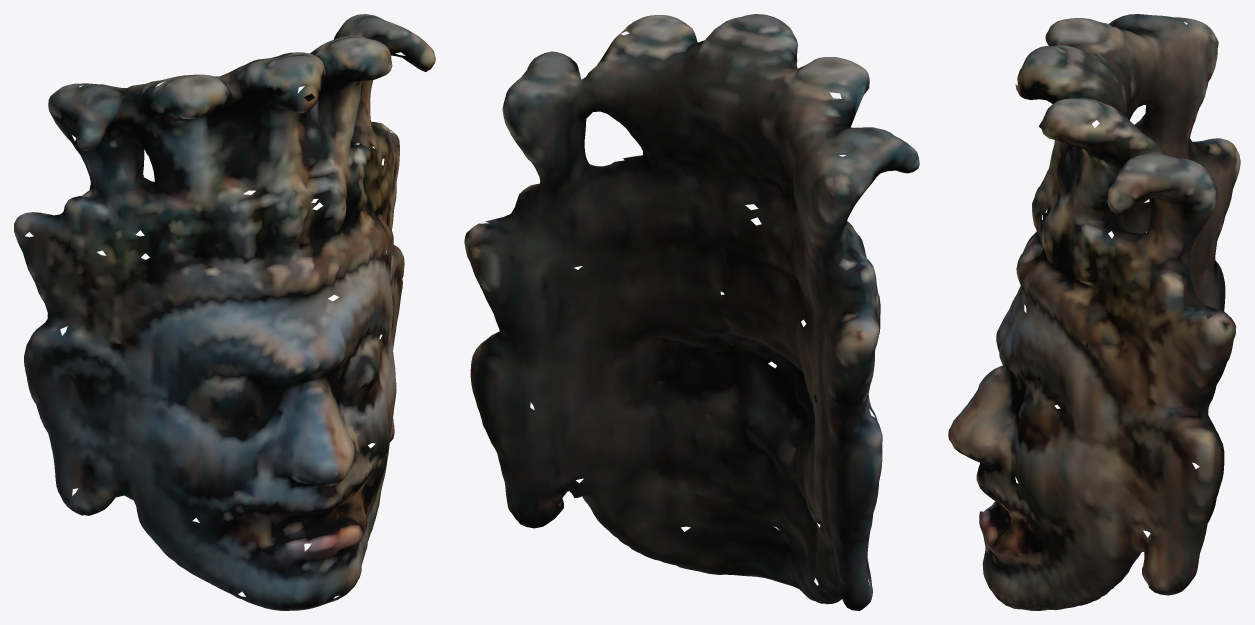
The model's file is maha-kola-sanniya.glb.
The picture shows the model from 3 angles, left to right: view 1: azimuth 30°, elevation 25°; view 2: azimuth 150°, elevation 25°; view 3: azimuth 270°, elevation 25°; orthographic projection. The views are drawn at different scales.
Visible parts, largest first — view 1: geometry_0; view 2: geometry_0; view 3: geometry_0.
Boxes of the visible parts, x1,y1,x2,y2 form: geometry_0: [14, 14, 435, 610]; geometry_0: [464, 14, 919, 610]; geometry_0: [948, 14, 1240, 610].
Size of the model in its own units: 0.7492 by 1.01 by 0.493.
